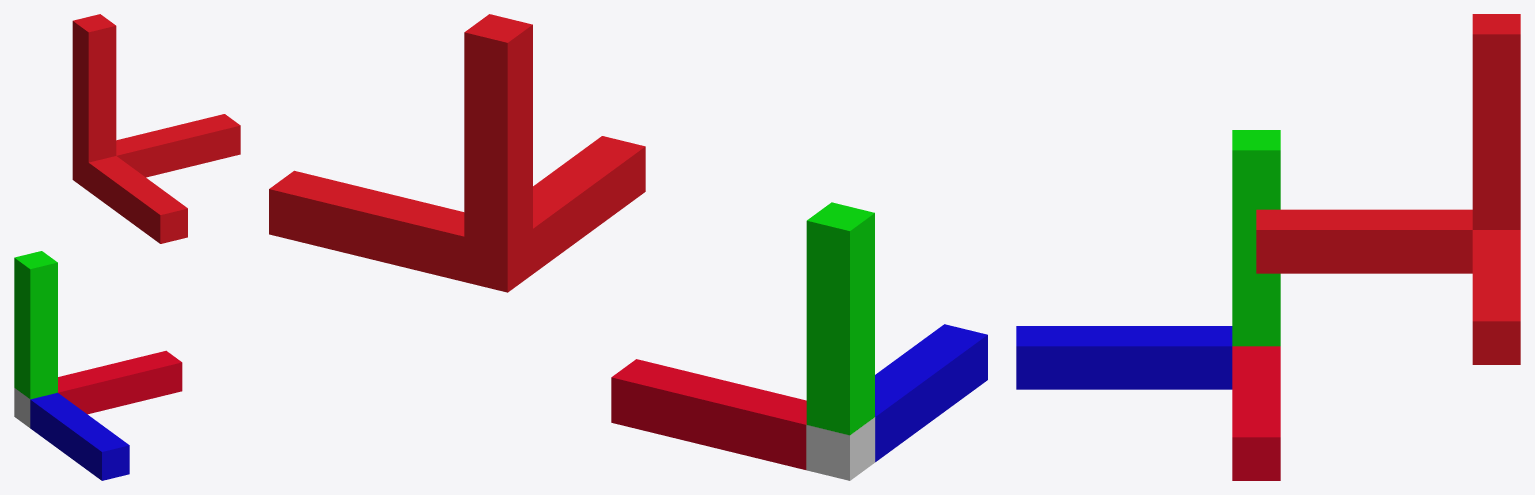
Rendered from frames.dae.
3 renders of one model, left to right at view 1: azimuth 30°, elevation 25°; view 2: azimuth 150°, elevation 25°; view 3: azimuth 270°, elevation 25°, orthographic. The views are drawn at different scales.
Parts seen in each view (by area): view 1: Cube2, Cube1; view 2: Cube1, Cube2; view 3: Cube2, Cube1.
Boxes of the visible parts, x1,y1,x2,y2 form: Cube2: (72,14,240,243); Cube1: (14,251,182,480); Cube1: (611,202,987,480); Cube2: (269,14,645,292); Cube2: (1256,14,1520,364); Cube1: (1016,130,1280,480).
Bounding box in the file's own units: 2.1 × 2.1 × 2.1.
2 materials, 1 textured.
